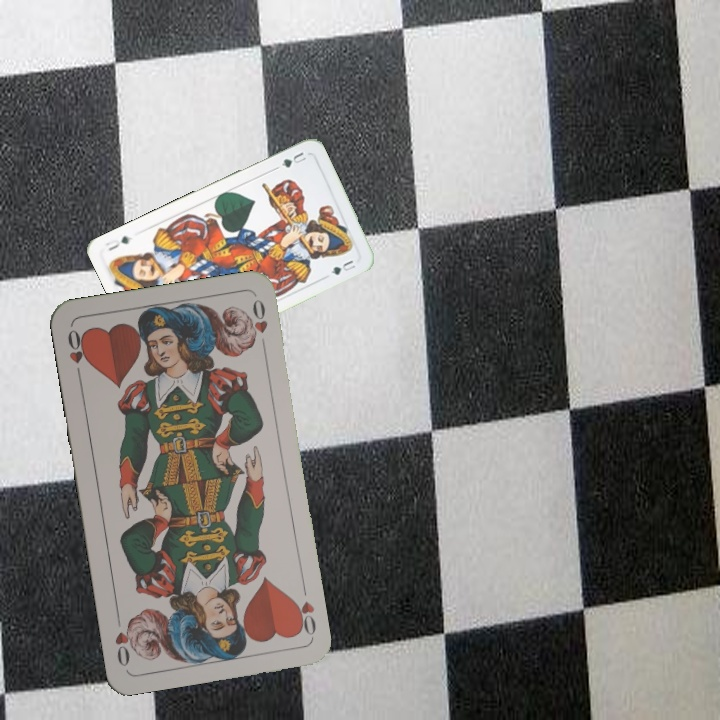GU: (277, 148, 309, 170)
HO: (289, 581, 319, 638), (63, 325, 90, 383)
